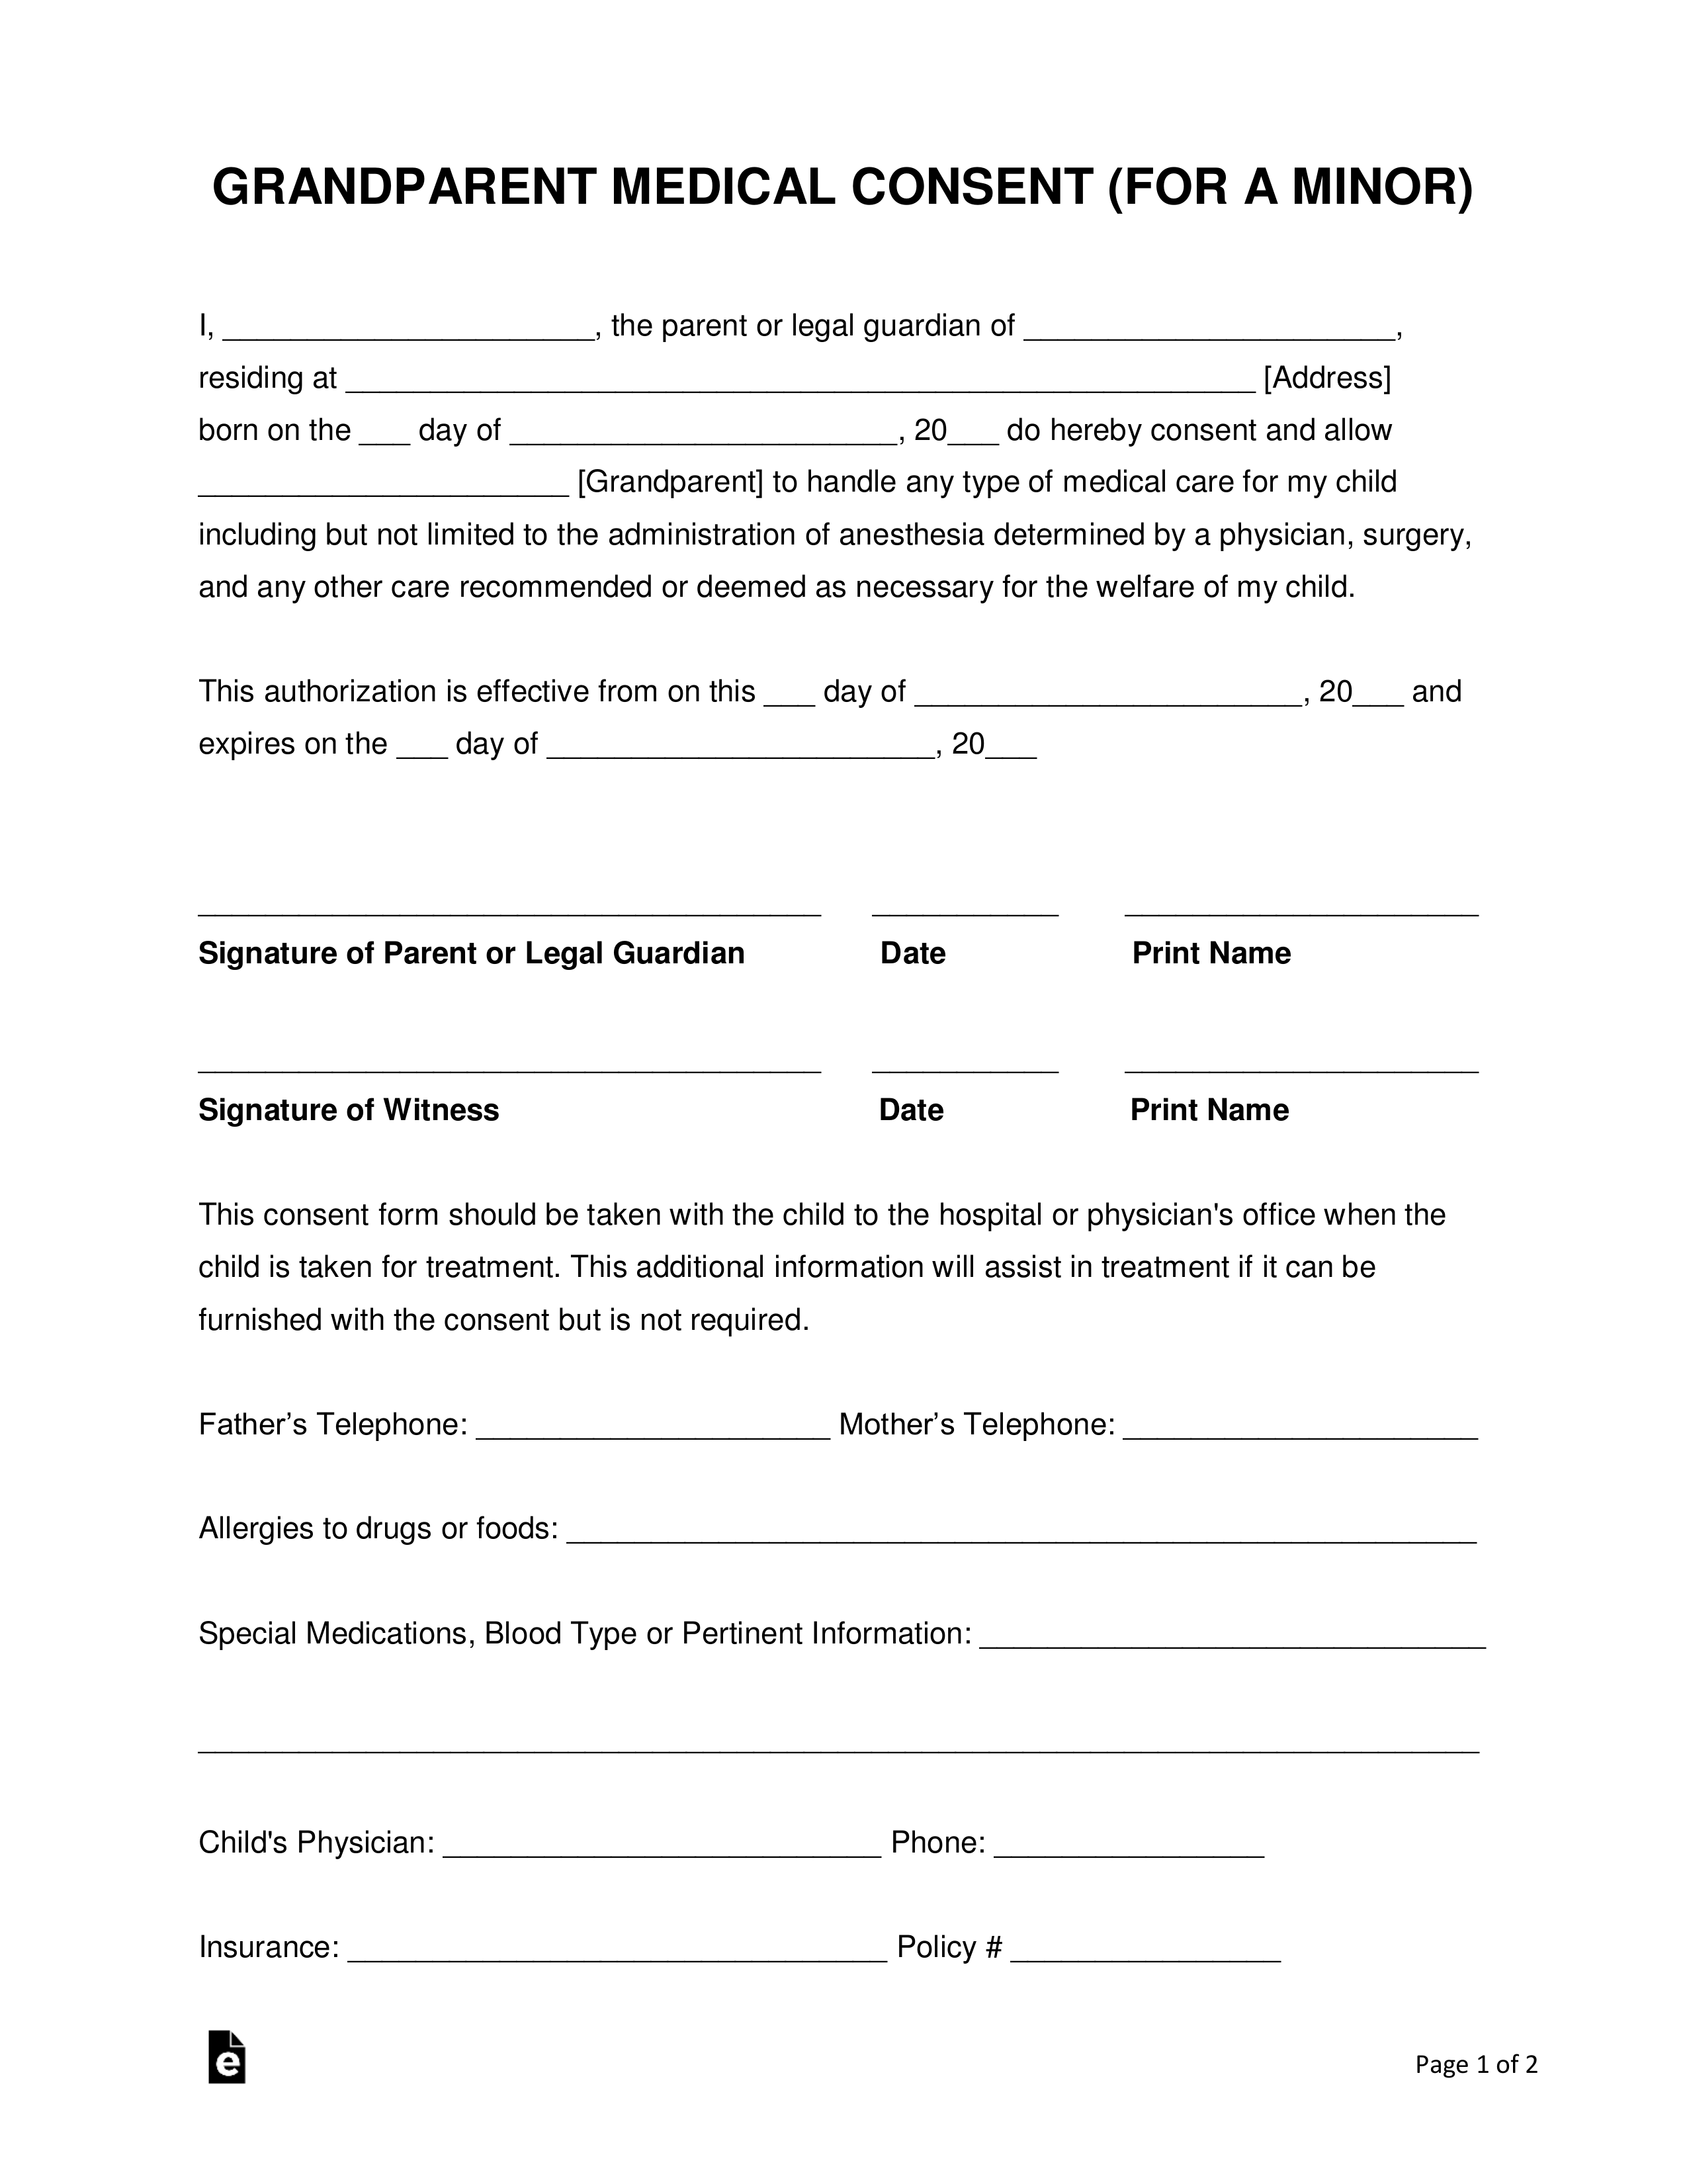textline: (177, 1729, 1497, 1771), (558, 1506, 1499, 1559), (177, 1031, 828, 1086), (344, 367, 1262, 402), (971, 1610, 1499, 1661), (337, 1925, 897, 1968), (434, 1821, 891, 1870), (1109, 882, 1494, 933), (1012, 308, 1446, 352), (193, 900, 831, 930), (468, 1412, 836, 1452), (987, 1832, 1287, 1881), (211, 317, 615, 352), (1115, 1052, 1490, 1089), (1005, 1925, 1292, 1971), (1113, 1417, 1512, 1447), (539, 742, 950, 771), (183, 476, 574, 500), (904, 689, 1320, 710), (498, 432, 913, 452), (858, 898, 1070, 933), (865, 1057, 1070, 1088), (385, 728, 457, 762), (751, 687, 831, 717), (941, 427, 1008, 462), (976, 749, 1056, 772), (354, 432, 420, 459), (1352, 691, 1414, 717)
